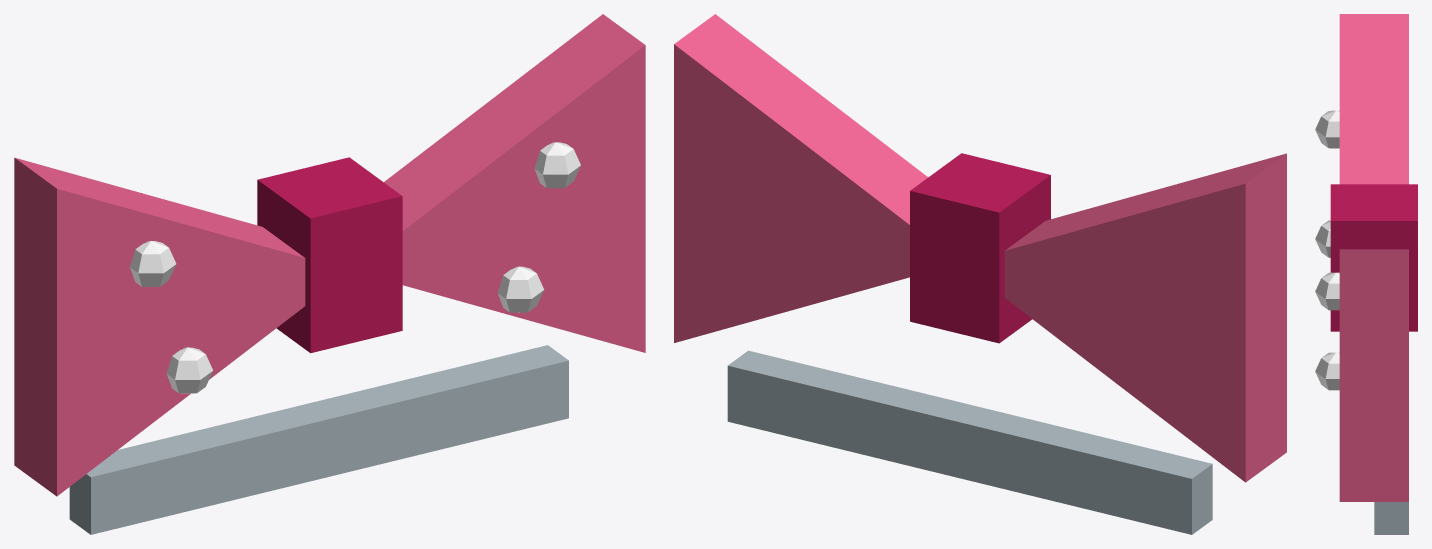
Rendered from harspanne.glb.
3 renders of one model, left to right at view 1: azimuth 30°, elevation 25°; view 2: azimuth 150°, elevation 25°; view 3: azimuth 270°, elevation 25°, orthographic. The views are drawn at different scales.
Visible parts, largest first — view 1: harspanne; view 2: harspanne; view 3: harspanne.
Part boxes in pixels (x1,y1,x2,y2): harspanne: (14, 14, 645, 534); harspanne: (674, 14, 1286, 534); harspanne: (1315, 14, 1417, 534).
Size of the model in its own units: 0.32 by 0.195 by 0.059.
